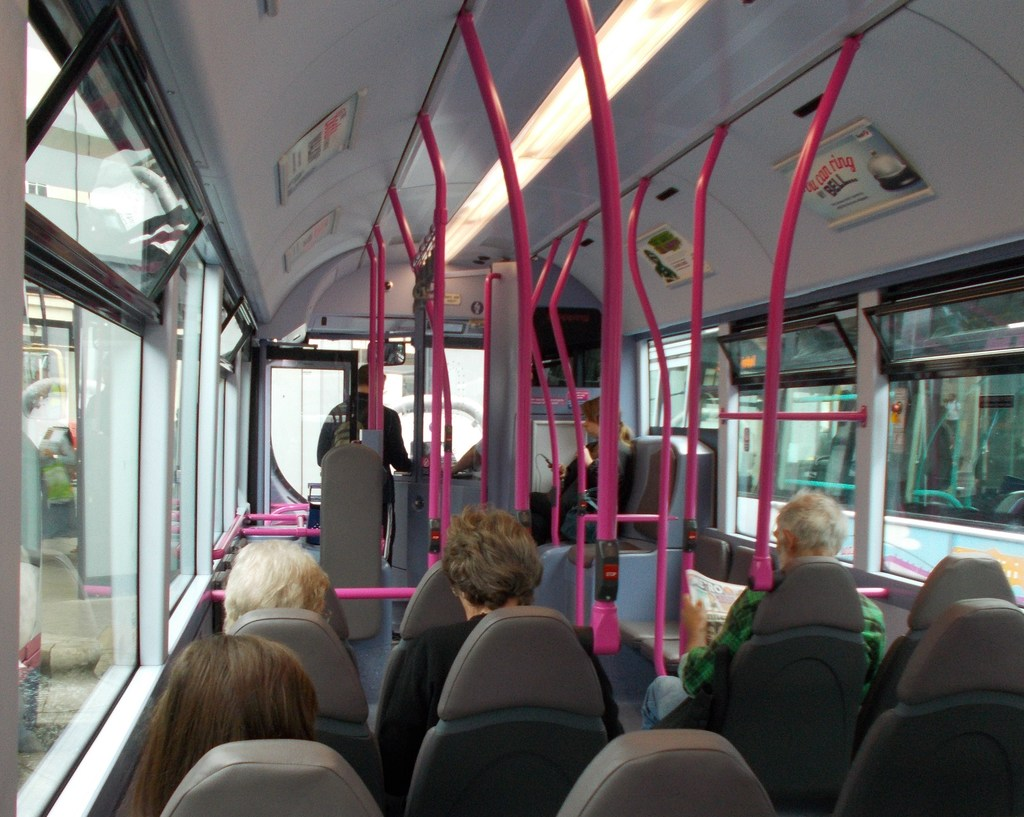Bus: (19, 0, 1023, 816), (641, 273, 1023, 609)
